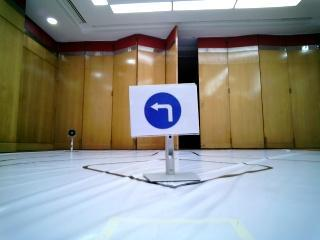left: (127, 87, 200, 133)
